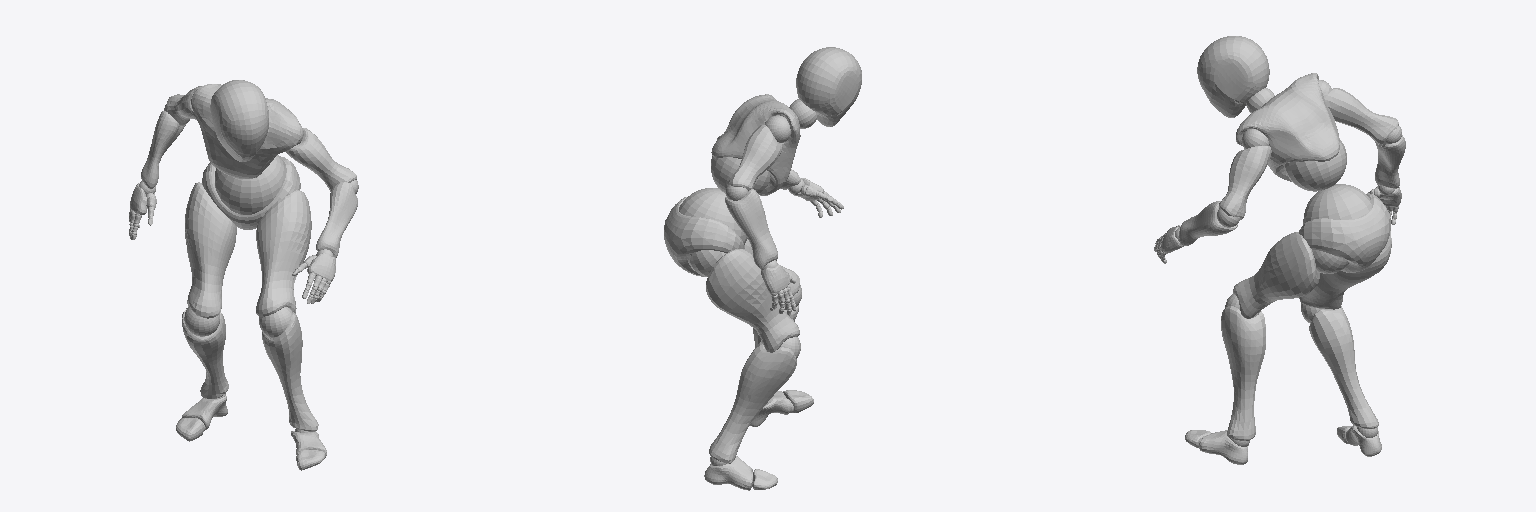
3 views of the same model, side by side, from view 1: azimuth 30°, elevation 25°; view 2: azimuth 150°, elevation 25°; view 3: azimuth 270°, elevation 25° (orthographic).
Parts seen in each view (by area): view 1: Beta_Surface, Beta_Joints; view 2: Beta_Surface, Beta_Joints; view 3: Beta_Surface, Beta_Joints.
Boxes of the visible parts, <box> form: Beta_Surface: <box>129,80,357,470</box>; Beta_Joints: <box>129,105,358,432</box>; Beta_Surface: <box>664,47,861,490</box>; Beta_Joints: <box>679,99,839,486</box>; Beta_Surface: <box>1154,36,1405,464</box>; Beta_Joints: <box>1155,80,1401,446</box>.
Size of the model in its own units: 0.5925 by 1.48 by 0.8496.